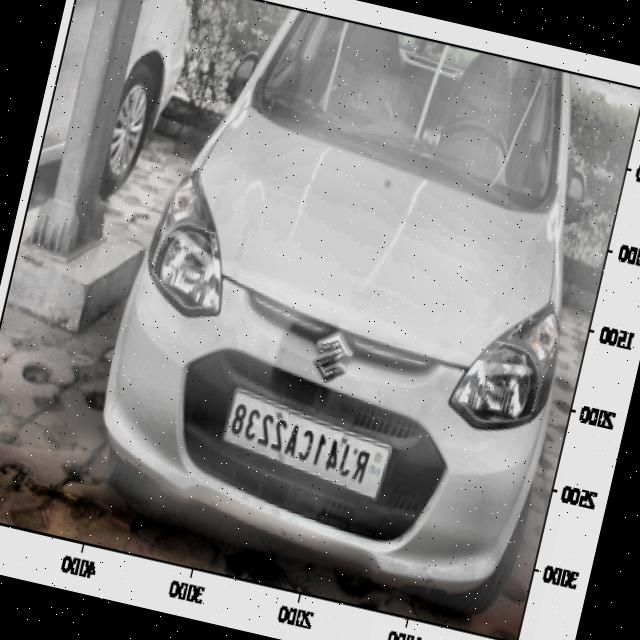license_plate: (220, 391, 382, 484)
